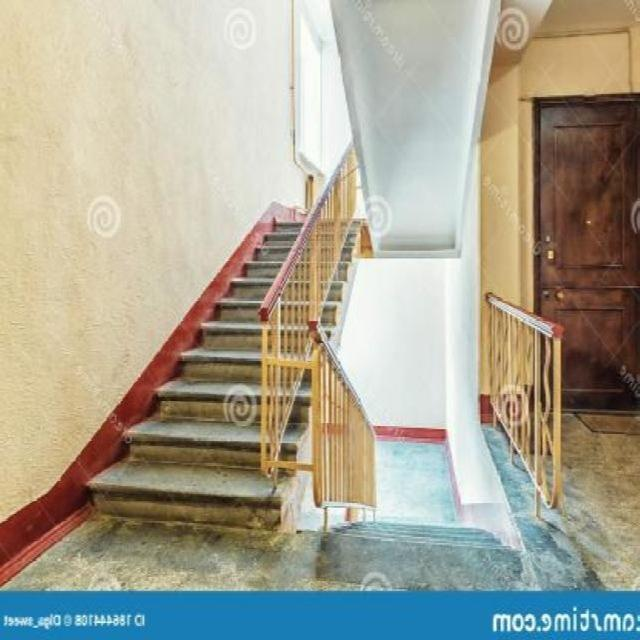stair: (64, 110, 362, 541), (323, 444, 511, 586)
